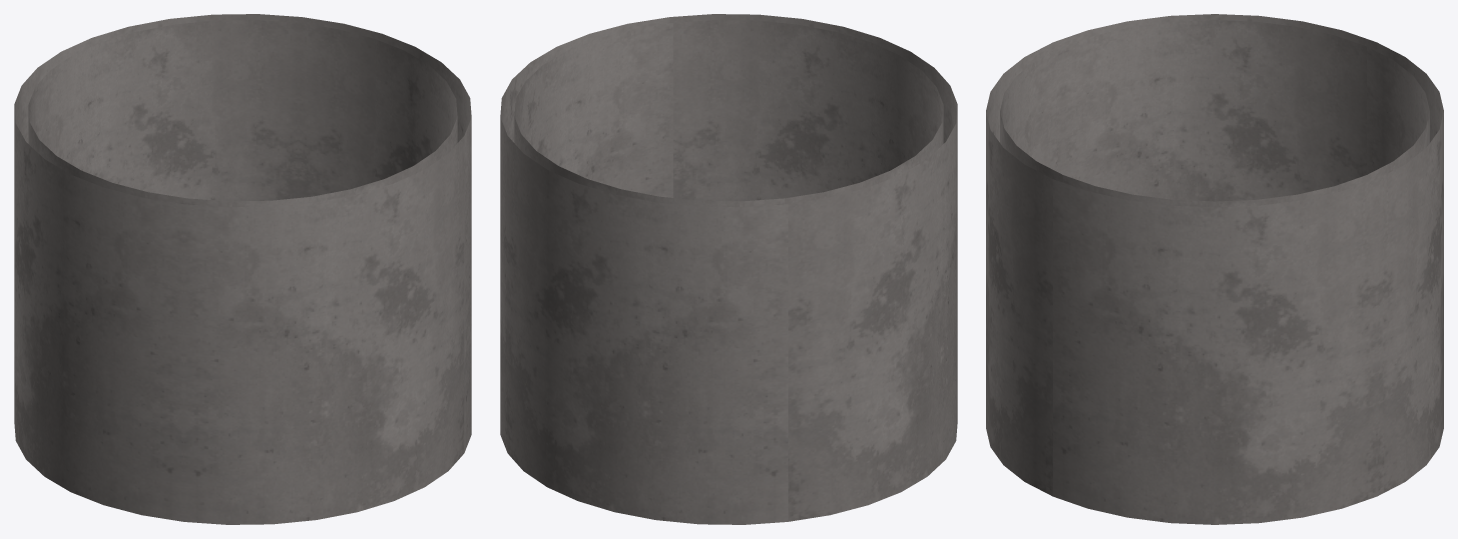
The model's file is ElevatorHead.fbx.
3 views of the same model, side by side, from view 1: azimuth 30°, elevation 25°; view 2: azimuth 150°, elevation 25°; view 3: azimuth 270°, elevation 25° (orthographic).
Visible parts, largest first — view 1: Cylinder.003; view 2: Cylinder.003; view 3: Cylinder.003.
Part boxes in pixels (box(x1,y1,x2,y2)): Cylinder.003: box(14, 14, 471, 524); Cylinder.003: box(500, 14, 957, 524); Cylinder.003: box(986, 14, 1443, 524).
Bounding box in the file's own units: 200 × 153 × 200.
